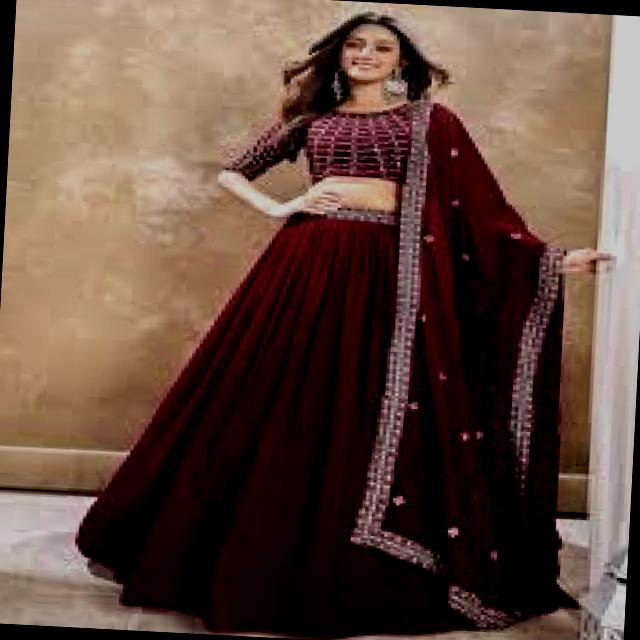dress: (78, 100, 574, 638)
